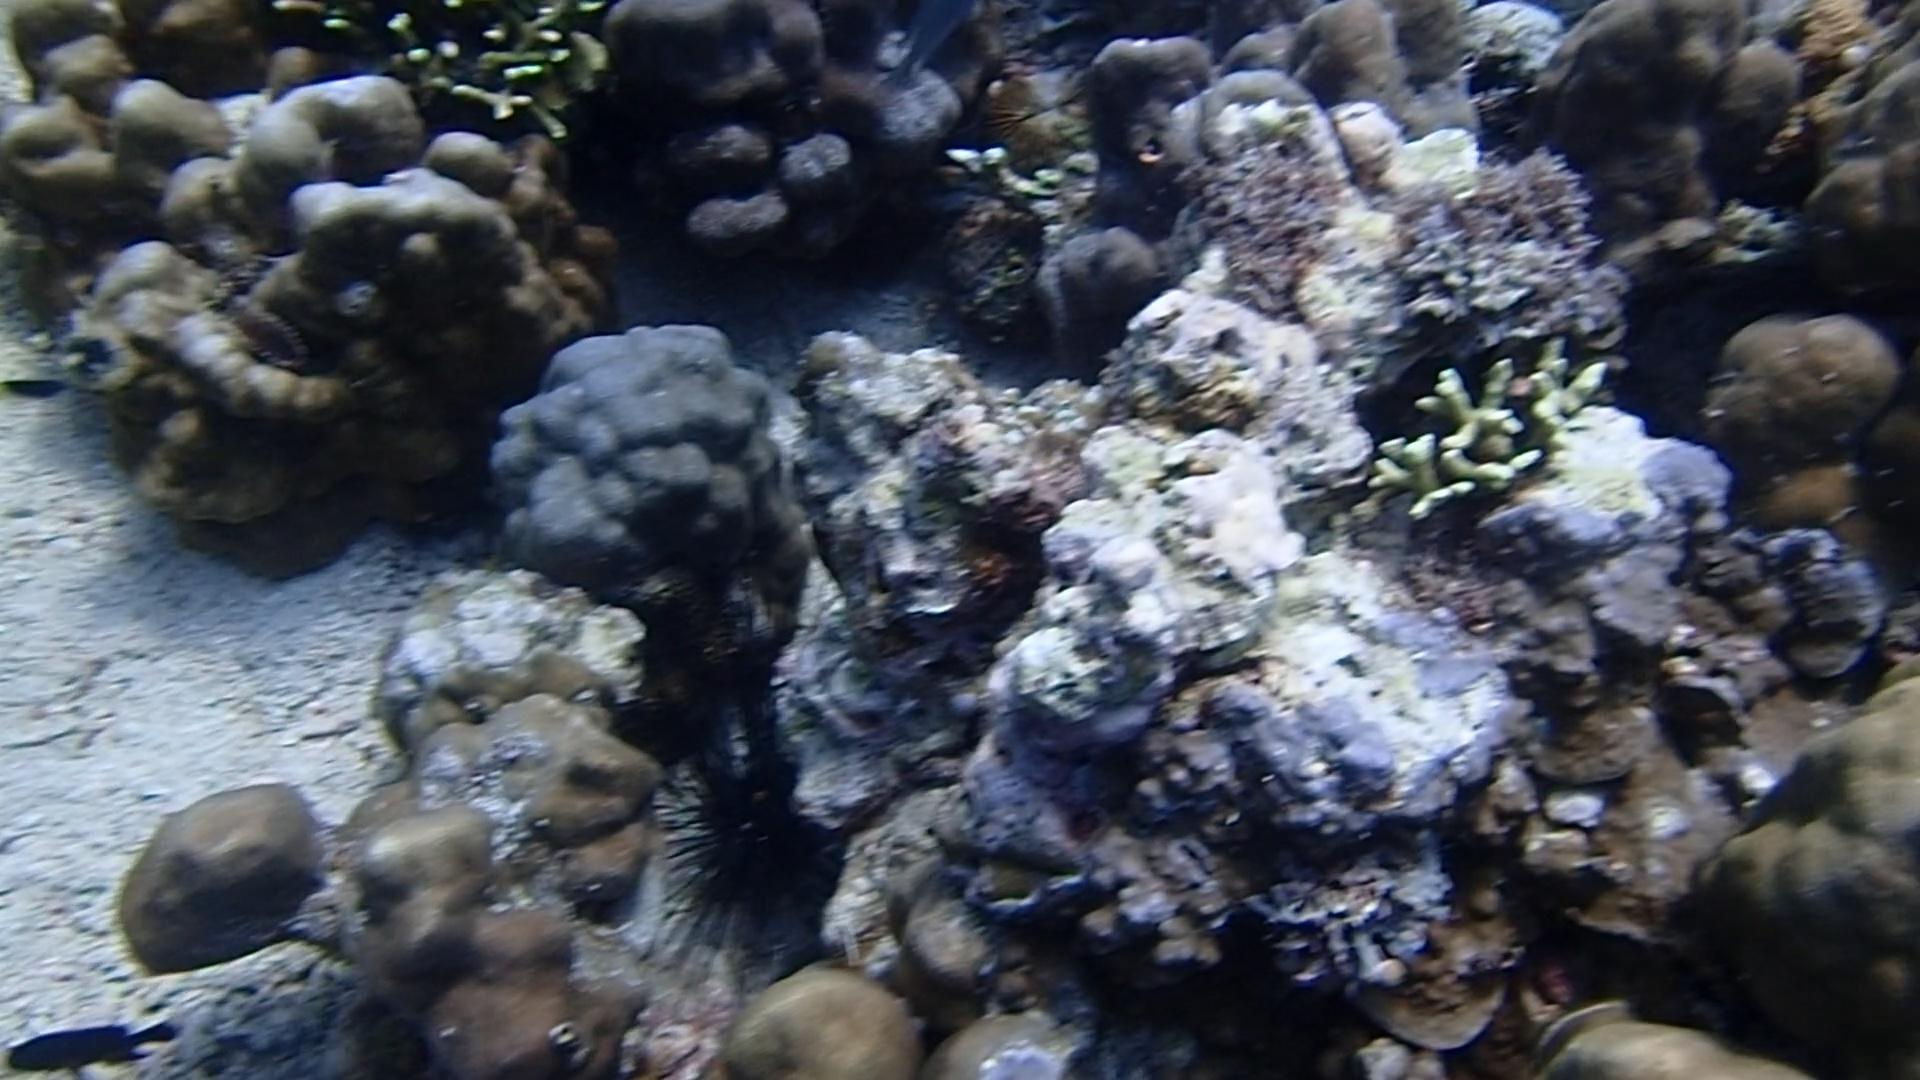Blue Fish Two: (878, 0, 975, 92)
Dark Fish: (4, 1018, 170, 1077)
Yellow Tail: (0, 359, 76, 413)
